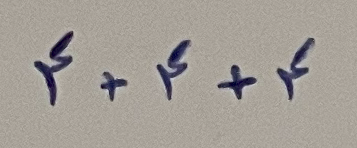character: (33, 29, 74, 107), (275, 37, 318, 104), (155, 38, 196, 104), (217, 64, 257, 100), (97, 71, 129, 102)
